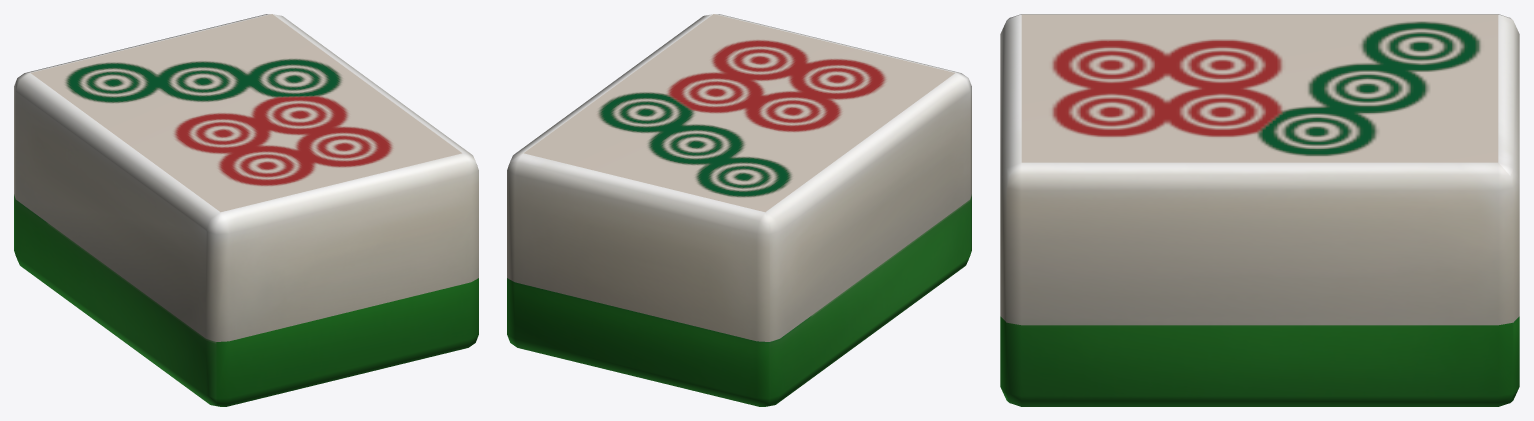
Rendered from MaJiangZi_001.fbx.
The picture shows the model from 3 angles, left to right: view 1: azimuth 30°, elevation 25°; view 2: azimuth 150°, elevation 25°; view 3: azimuth 270°, elevation 25°; orthographic projection. The views are drawn at different scales.
Visible parts, largest first — view 1: MaJiangZi_BaiSe, MaJiangZi_ZhengMian, MaJiangZi_BeiMian; view 2: MaJiangZi_BaiSe, MaJiangZi_ZhengMian, MaJiangZi_BeiMian; view 3: MaJiangZi_BaiSe, MaJiangZi_ZhengMian, MaJiangZi_BeiMian.
Part boxes in pixels (<box>): MaJiangZi_BaiSe: <box>14,14,478,341</box>; MaJiangZi_ZhengMian: <box>31,14,461,212</box>; MaJiangZi_BeiMian: <box>14,194,478,406</box>; MaJiangZi_BaiSe: <box>507,14,971,341</box>; MaJiangZi_ZhengMian: <box>524,14,954,212</box>; MaJiangZi_BeiMian: <box>507,194,971,406</box>; MaJiangZi_BaiSe: <box>1000,14,1519,325</box>; MaJiangZi_ZhengMian: <box>1021,14,1498,162</box>; MaJiangZi_BeiMian: <box>1000,316,1519,406</box>.
Size of the model in its own units: 1.34 by 0.918 by 1.77.
